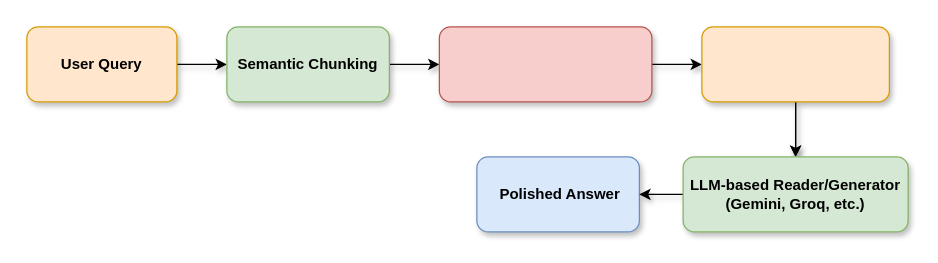
Image size: 938x263. Some labels were removed from this diagram. The shapes that lost their labels are listed below. From the top down, each one's centre as x and y in pixels, then its label:
At (x=546, y=66): "Vector Store (ChromaDB, embeddings)".
At (x=796, y=66): "Retriever (LangChain retriever)".
